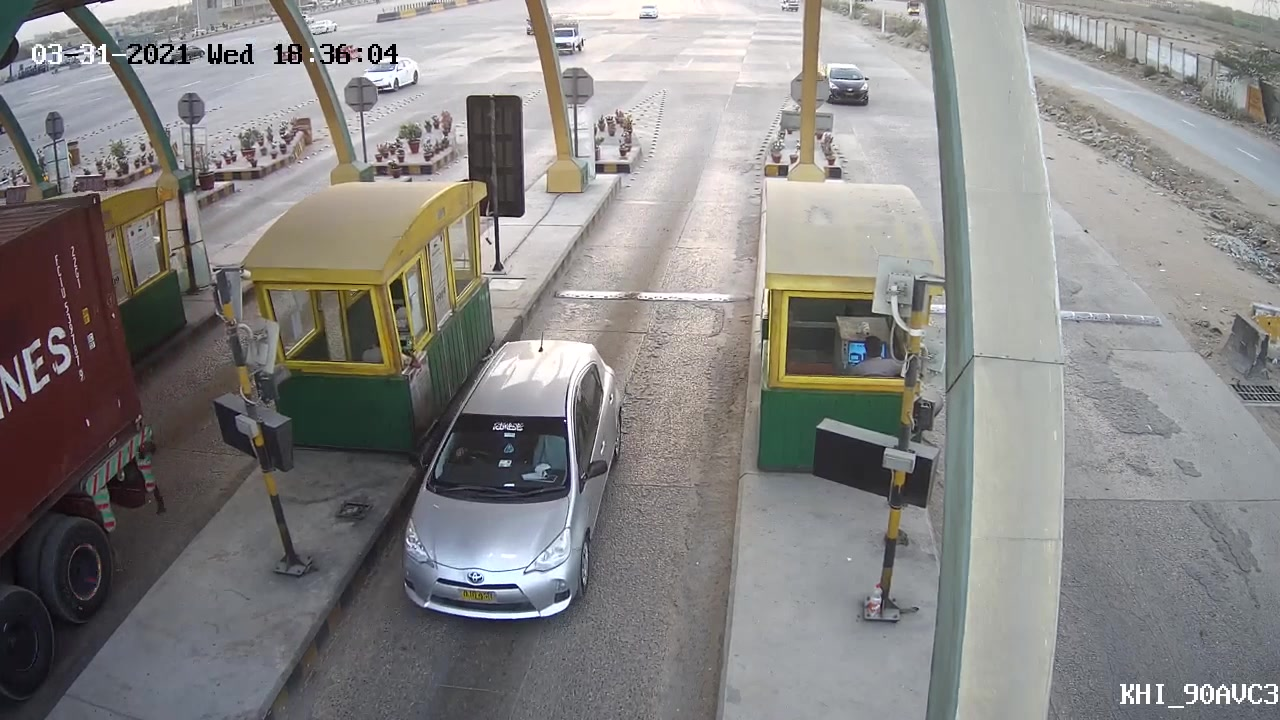F1: (395, 329, 626, 623)
